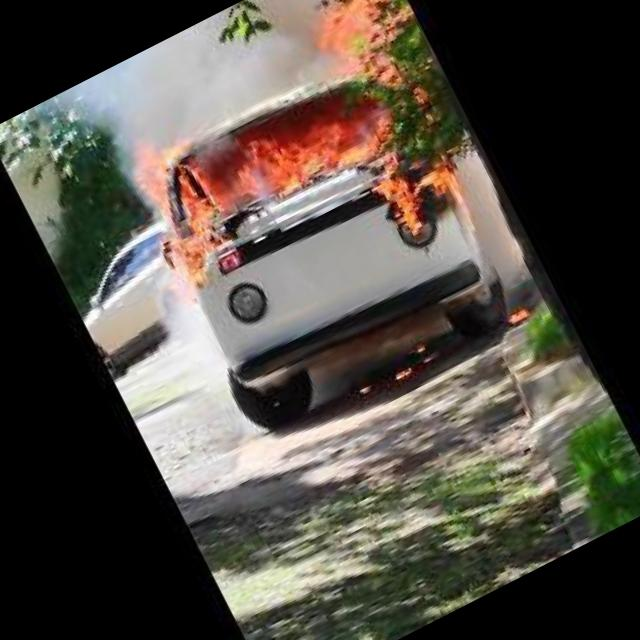fire: (121, 33, 420, 289), (297, 0, 430, 89), (369, 138, 476, 245), (506, 306, 530, 324), (395, 366, 415, 379)
smoke: (63, 0, 332, 179)
